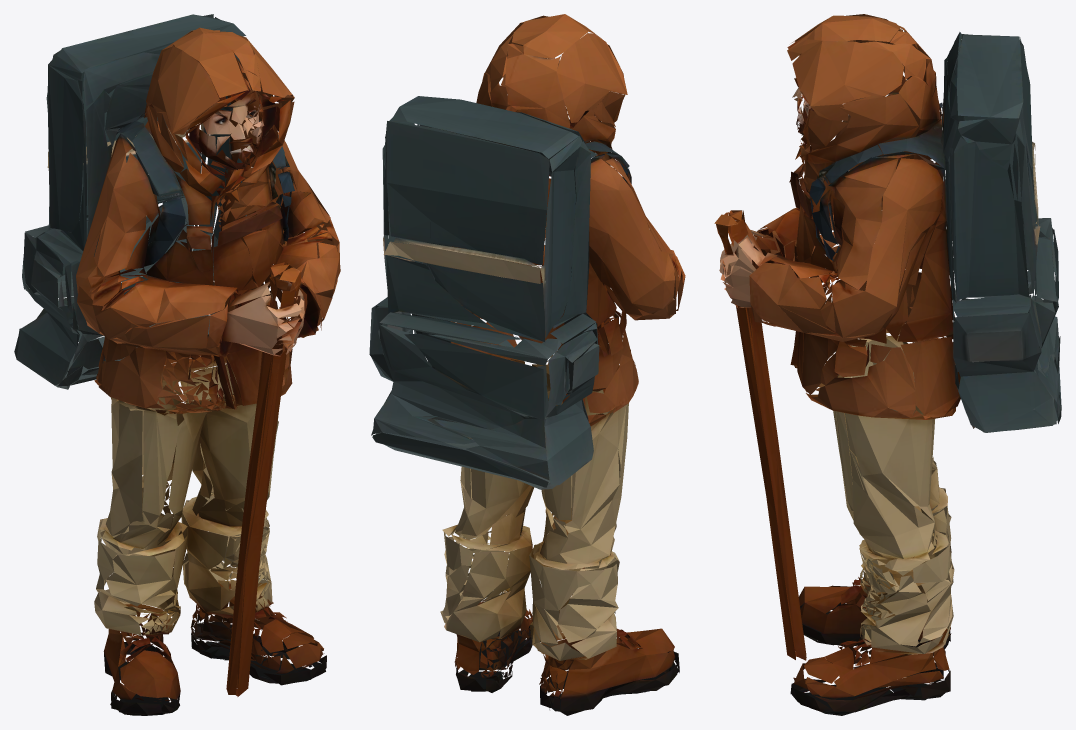
The model's file is traveler.glb.
3 renders of one model, left to right at view 1: azimuth 30°, elevation 25°; view 2: azimuth 150°, elevation 25°; view 3: azimuth 270°, elevation 25°, orthographic.
Parts seen in each view (by area): view 1: material; view 2: material; view 3: material.
Boxes of the visible parts, bbox=[...] form: material: bbox=[14, 14, 340, 715]; material: bbox=[369, 14, 685, 715]; material: bbox=[714, 14, 1061, 715].
Size of the model in its own units: 0.3744 by 0.92 by 0.4426.
1 material, 1 textured.
